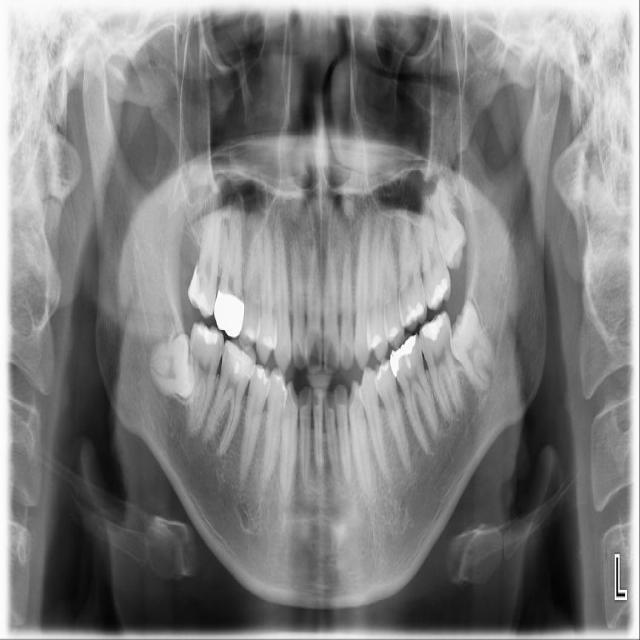52: (380, 328, 435, 385), (211, 334, 267, 388), (181, 262, 224, 320), (182, 319, 230, 370), (209, 287, 247, 340), (416, 310, 454, 363), (422, 252, 451, 312), (399, 277, 427, 333), (255, 305, 280, 367), (365, 305, 390, 366), (380, 298, 409, 350), (237, 293, 263, 348), (370, 357, 399, 397), (247, 364, 273, 404)
73: (614, 608, 622, 616)
BioHorizons Implant: (417, 186, 452, 313)
BioLife Implant: (424, 161, 472, 273)
Biomet 3i Implant: (434, 298, 512, 400)
Blue Sky Bio Implant: (414, 309, 467, 425)
Caries: (186, 179, 226, 321)
Implant: (187, 321, 225, 436)
Keystone Dental Implant: (144, 331, 200, 405)
